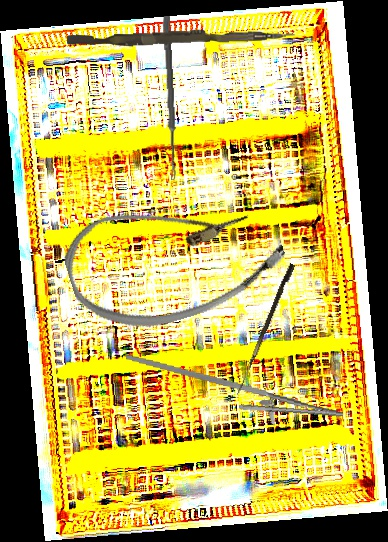Cannula: (55, 169, 295, 348)
Hook Surgical: (236, 262, 296, 398)
Needle Holder: (119, 352, 348, 436)
Pusher: (66, 23, 296, 51)
Surgical Spoon: (161, 15, 179, 181)
